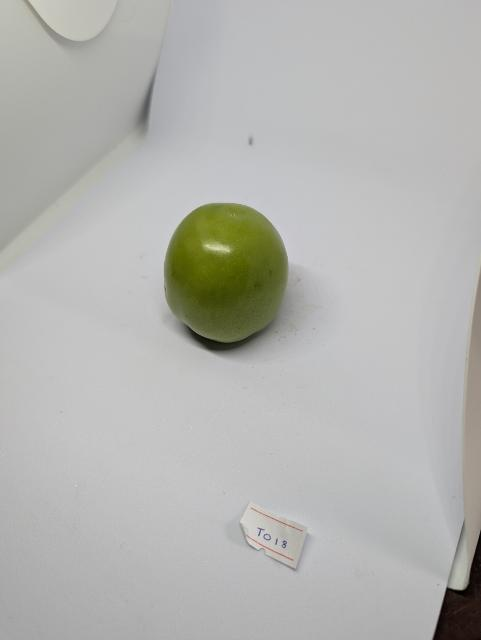green: (157, 198, 289, 346)
